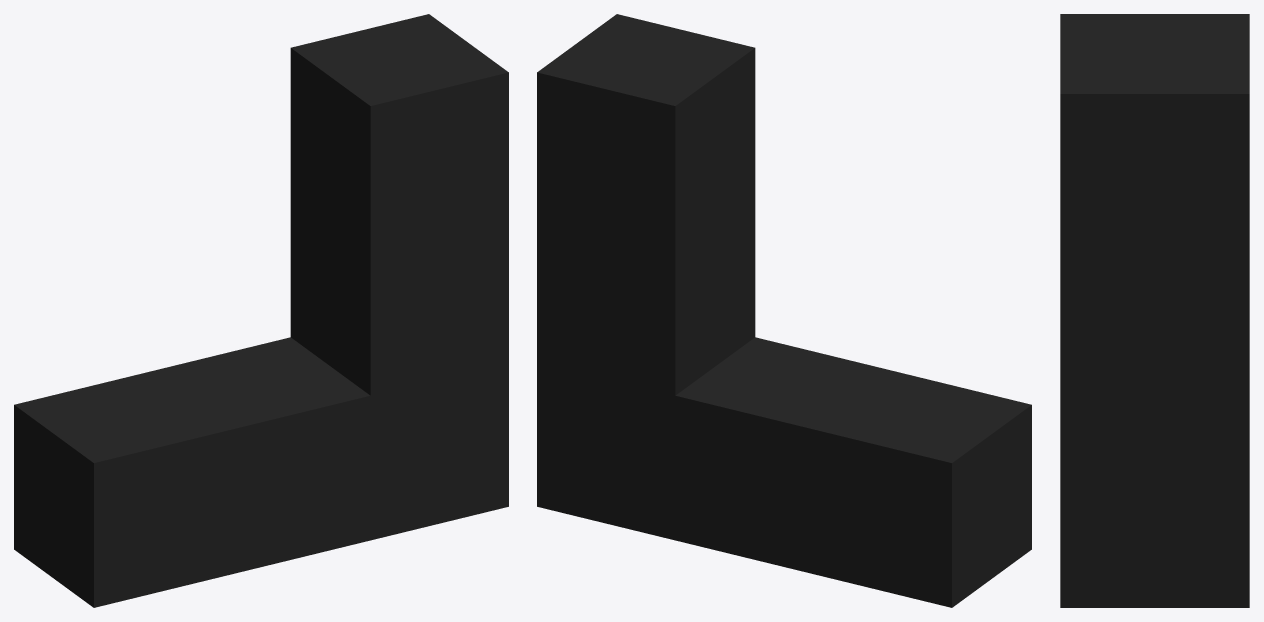
The model's file is Gun_French_TrenchWar-0.obj.
The picture shows the model from 3 angles, left to right: view 1: azimuth 30°, elevation 25°; view 2: azimuth 150°, elevation 25°; view 3: azimuth 270°, elevation 25°; orthographic projection. The views are drawn at different scales.
Bounding box in the file's own units: 0.3 × 0.3 × 0.1.
Materials: 1 (1 with a texture image).
